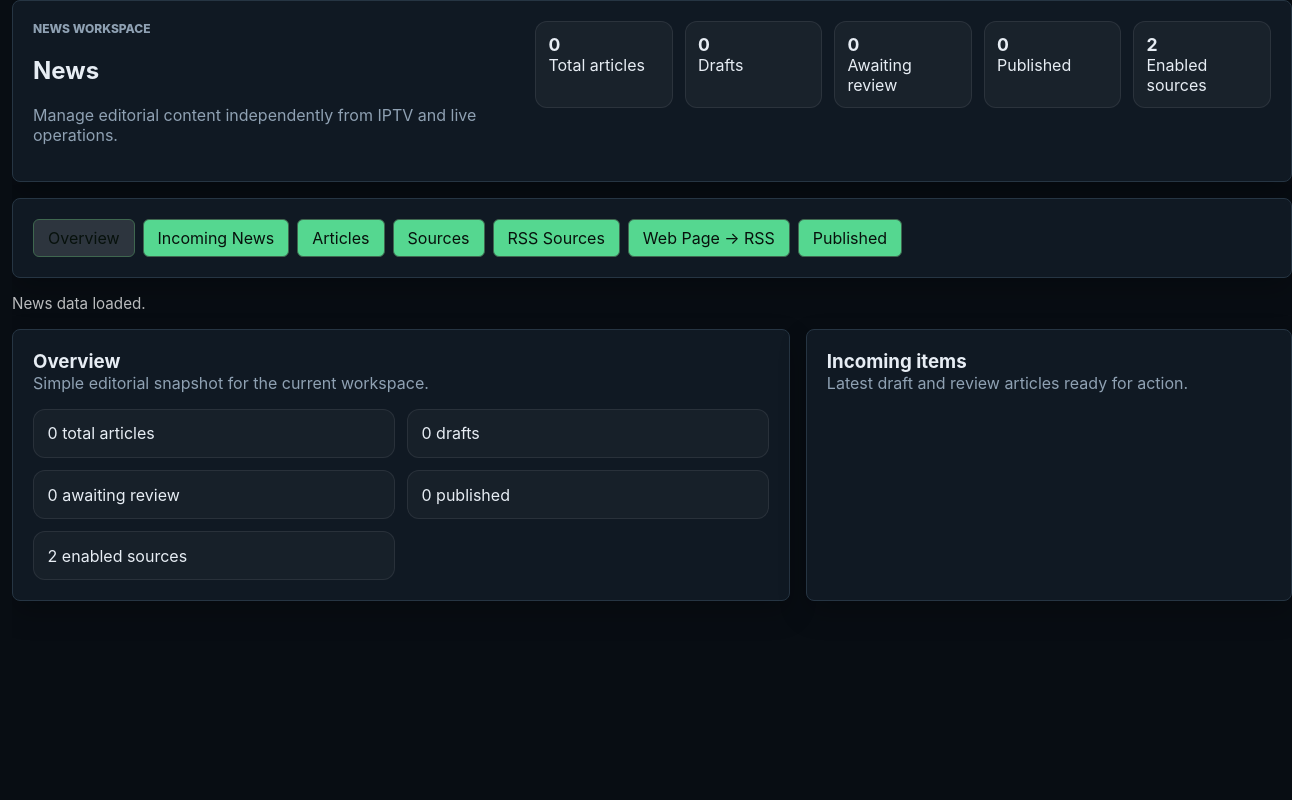
Test case: rendered Web Page RSS shows the safe anti-bot failure reason
The width and height of the screenshot is (1292, 800).
Check: the text "News data loaded." is shown, box [12,294,146,313]
Click the button "Web Page → RSS" at {"x": 709, "y": 238}, box [628,219,790,257]
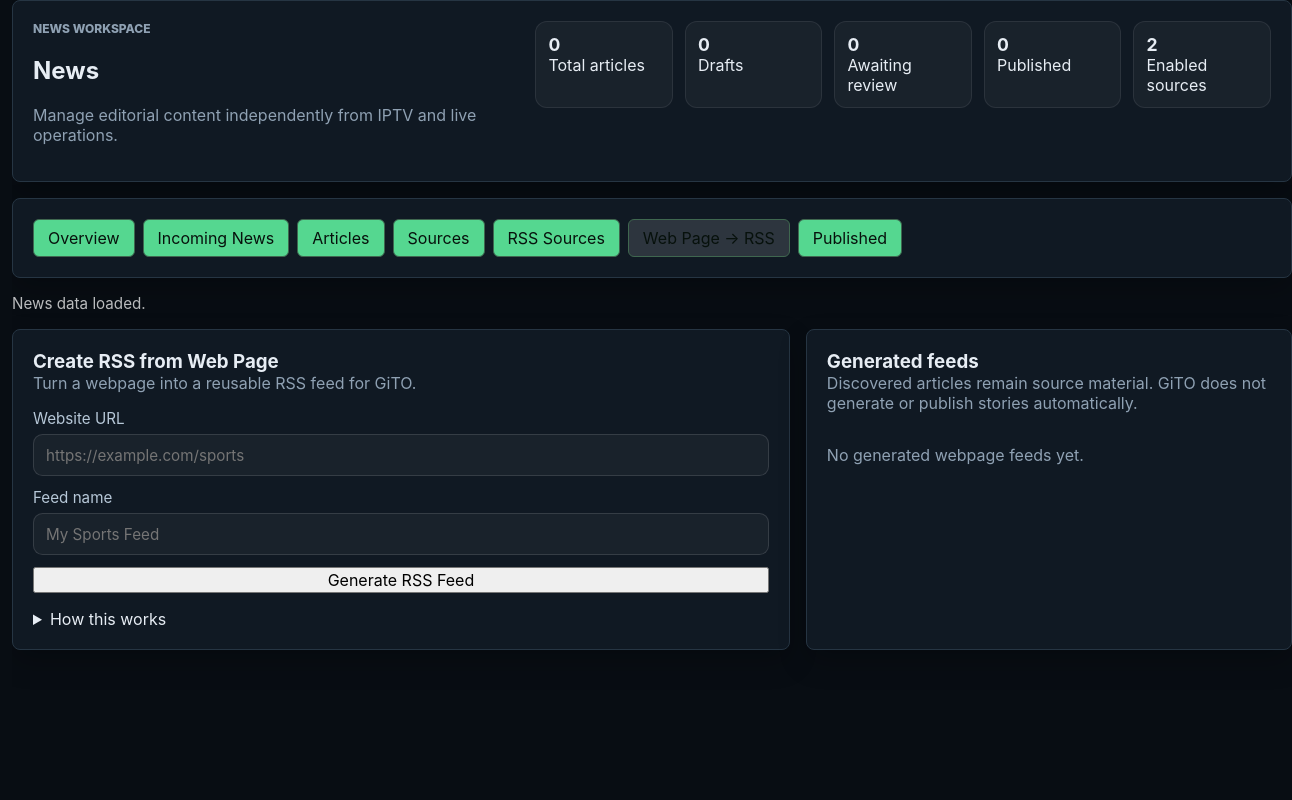
Type "https://tribuna.com/en/clubs/bayern-munchen/" into the field with placeholder "https://example.com/sports" at {"x": 401, "y": 455}, box [33,434,769,476]
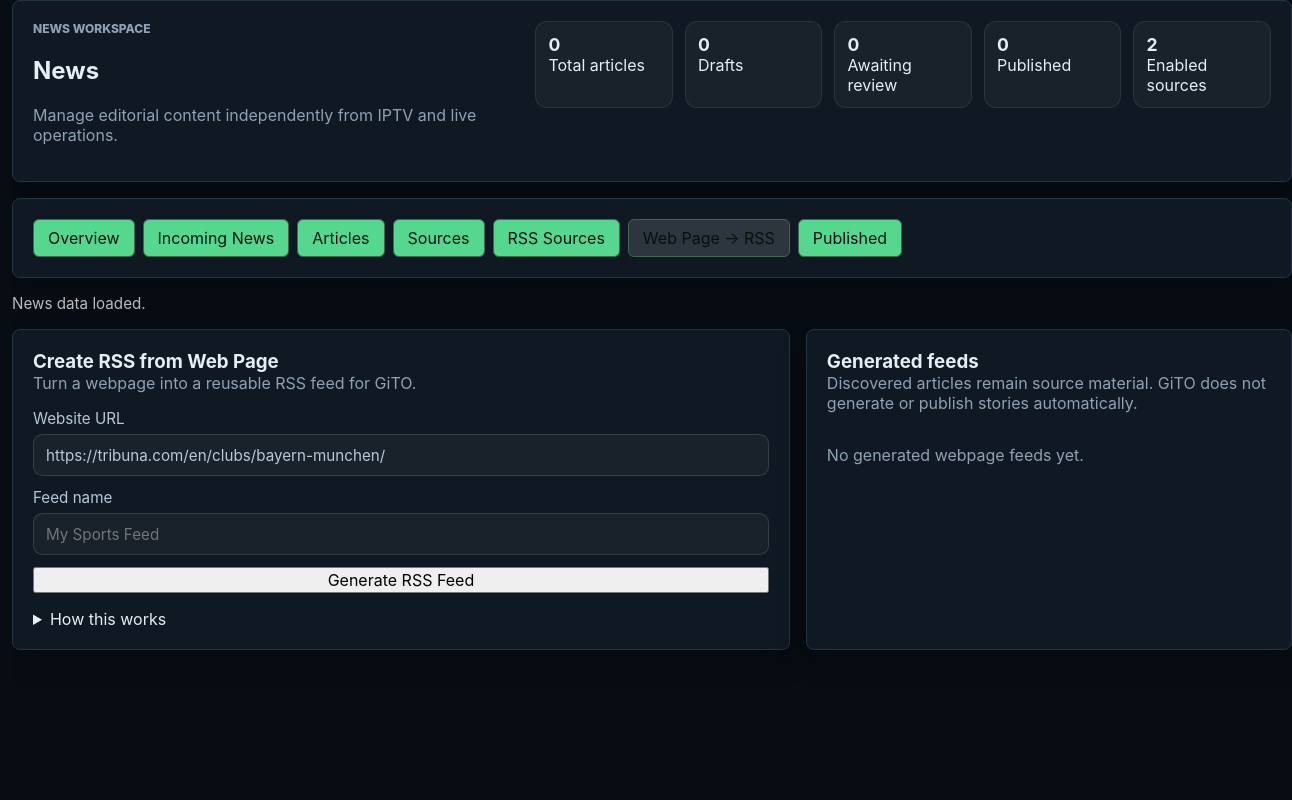
Type "Tribuna Bayern" into the field with placeholder "My Sports Feed" at {"x": 401, "y": 534}, box [33,513,769,555]
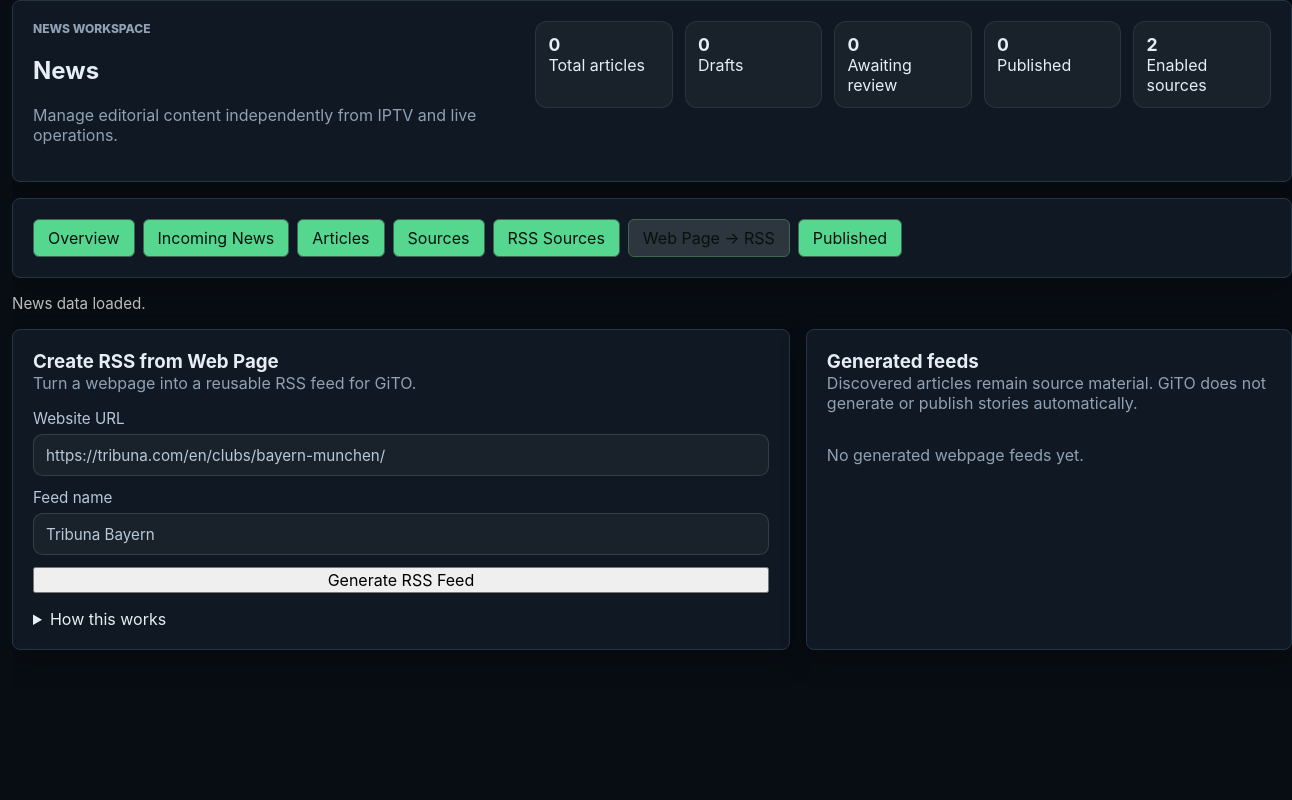
Submit the form "Generate RSS Feed", box [33,409,769,593]
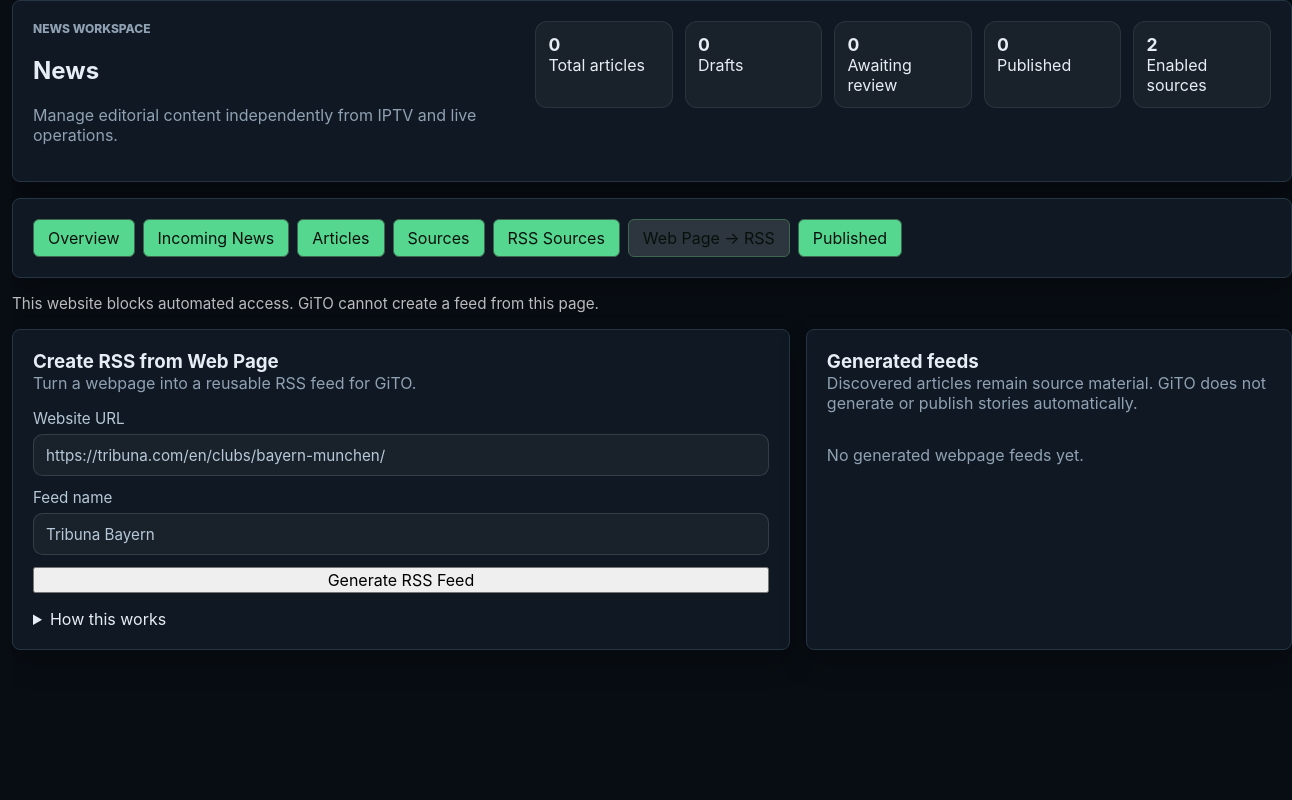
Check: the text "This website blocks automated access. GiTO cannot create a feed from this page." is shown, box [12,294,599,313]
